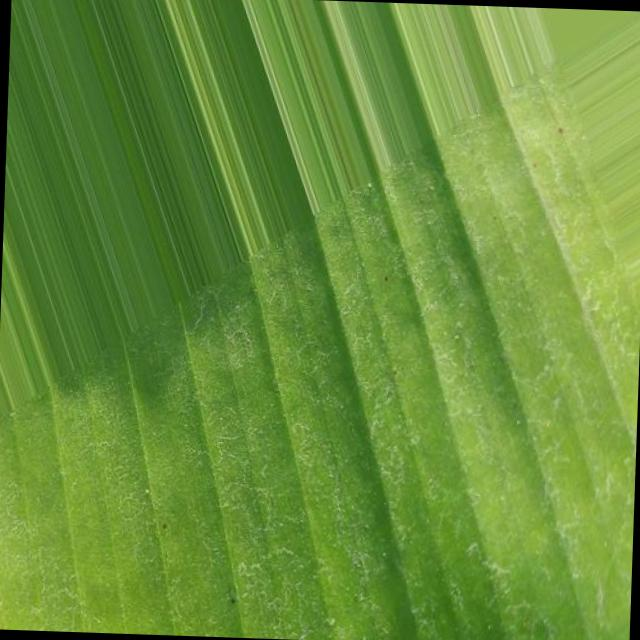Banana_Healthy: (143, 120, 522, 508)
